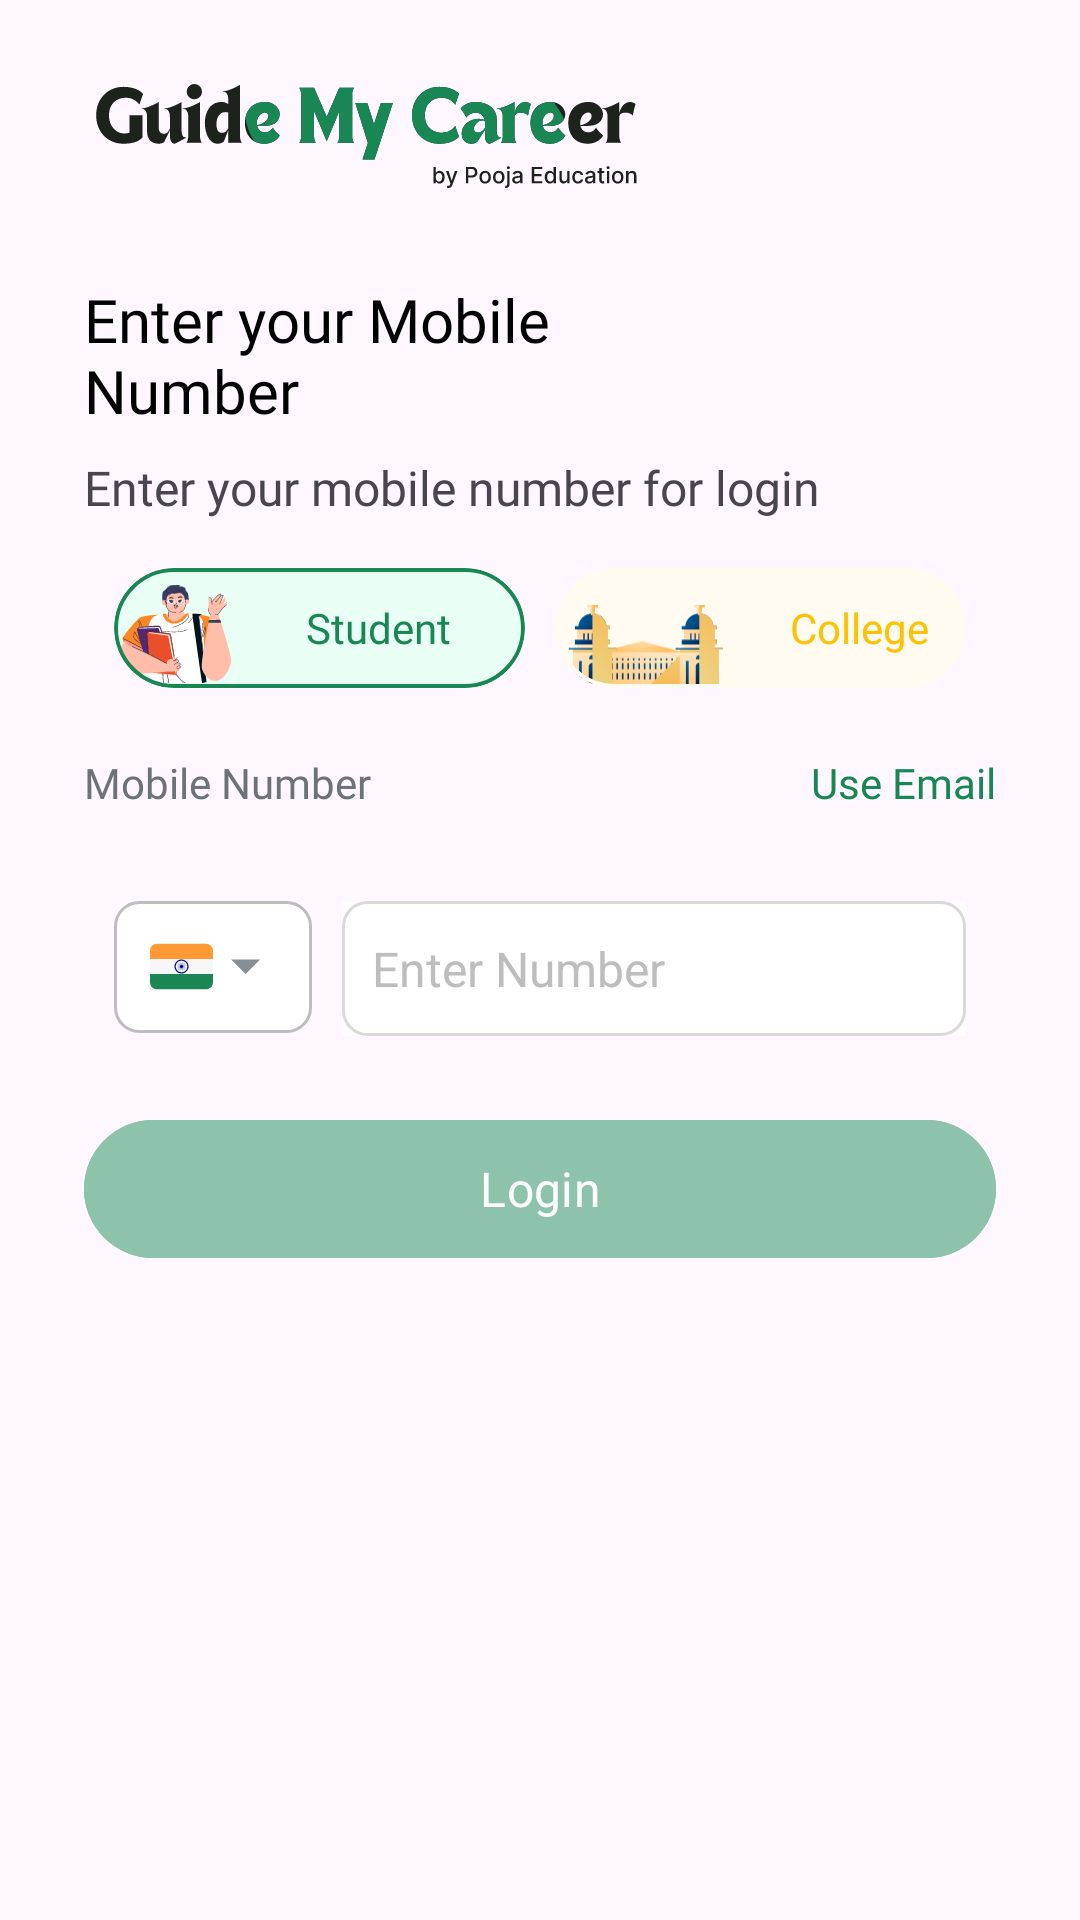

Icon bounding boxes for this 1080 x 1920 phone screenshot, format (x1, y1, x2, y2):
downarrow: (231, 959, 260, 974)
india: (150, 943, 213, 990)
